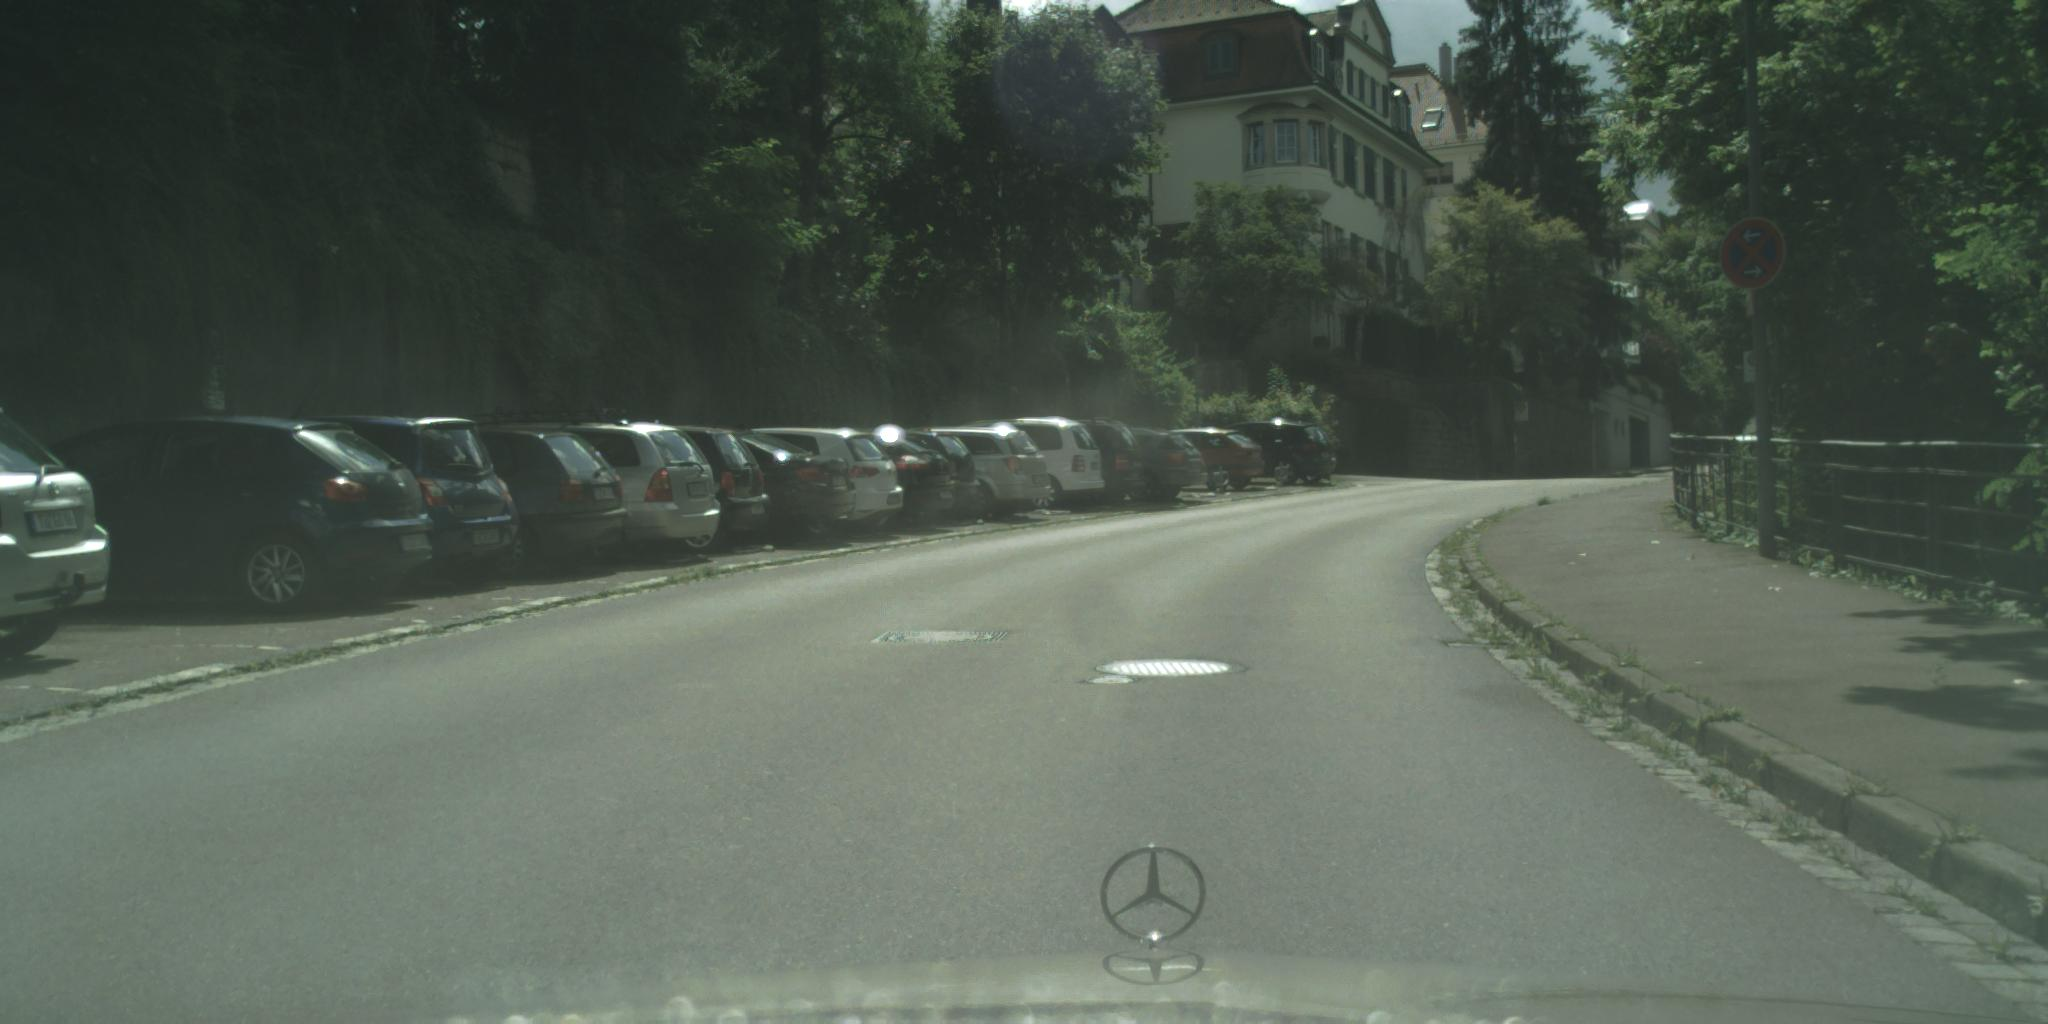car: (25, 415, 438, 627), (464, 406, 721, 568), (289, 415, 522, 590), (1, 408, 112, 658), (462, 428, 628, 583), (748, 428, 905, 539), (724, 428, 857, 549), (952, 418, 1108, 512), (660, 427, 775, 554), (906, 427, 1054, 520), (840, 434, 957, 534), (876, 431, 981, 526), (1221, 421, 1337, 487), (1156, 428, 1268, 494), (1115, 428, 1206, 503), (1072, 419, 1145, 507)
